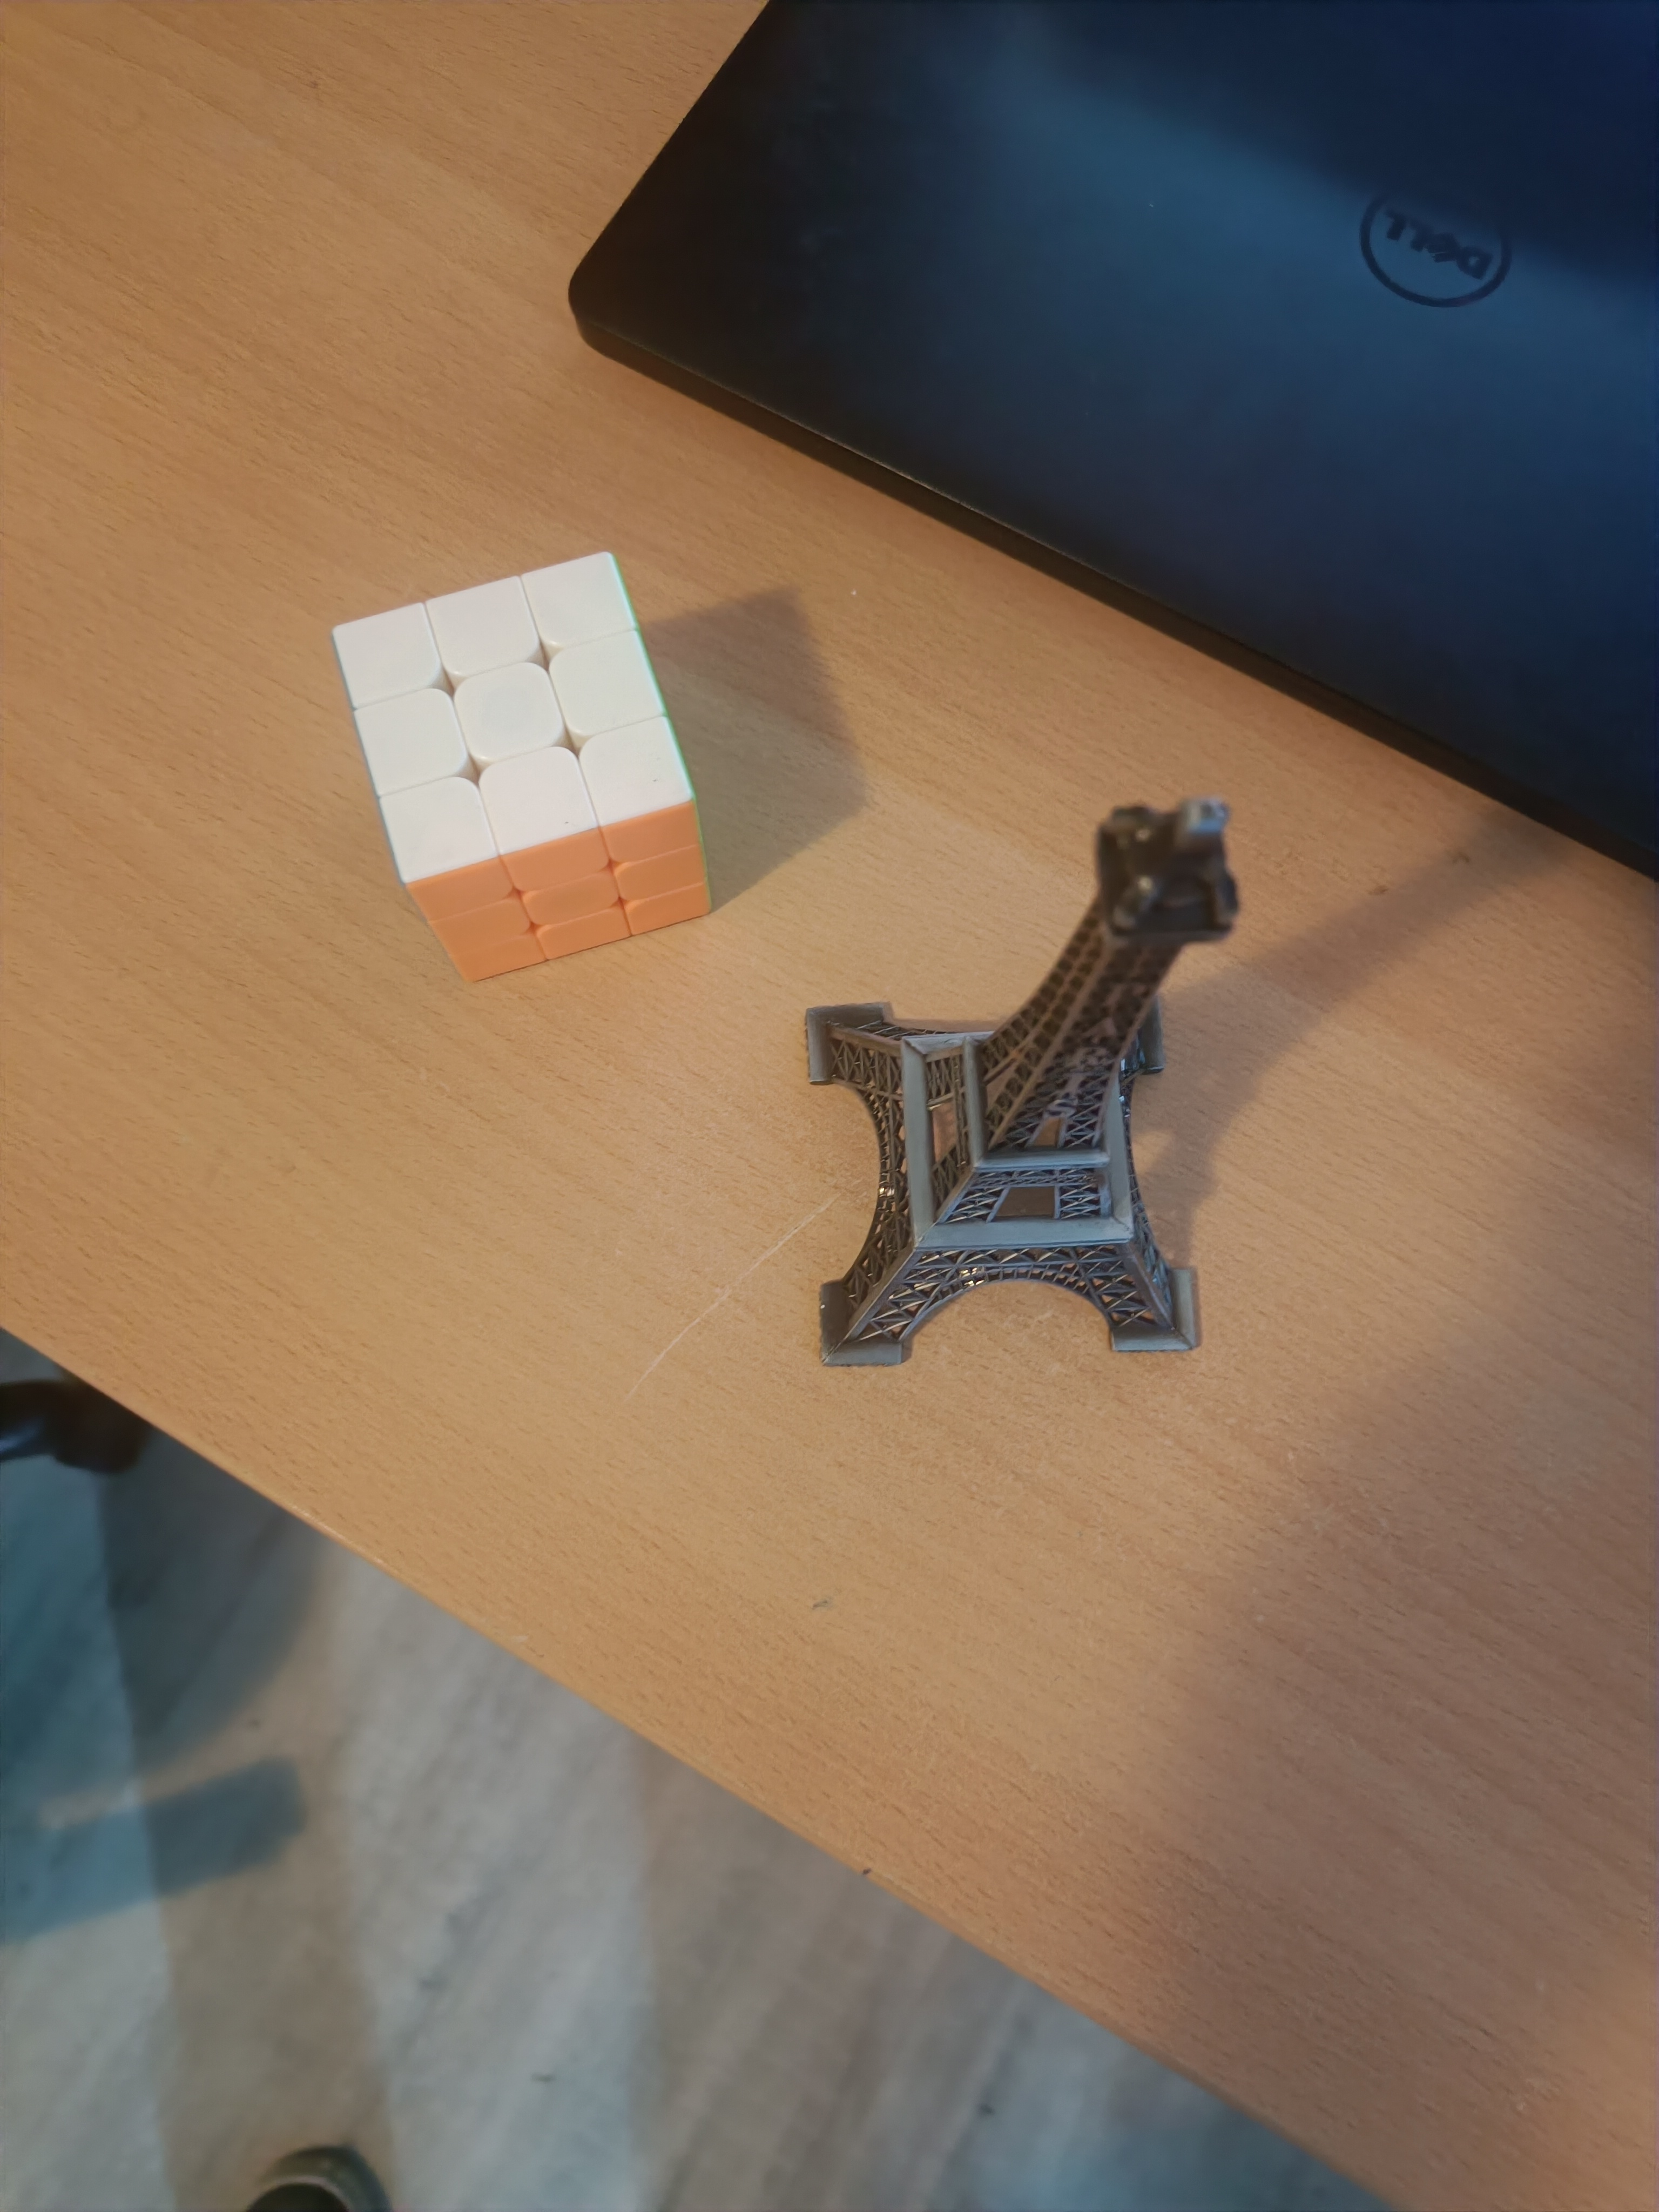Eiffel Tower: (775, 791, 1249, 1385)
Rubiks Cube: (323, 510, 724, 999)
